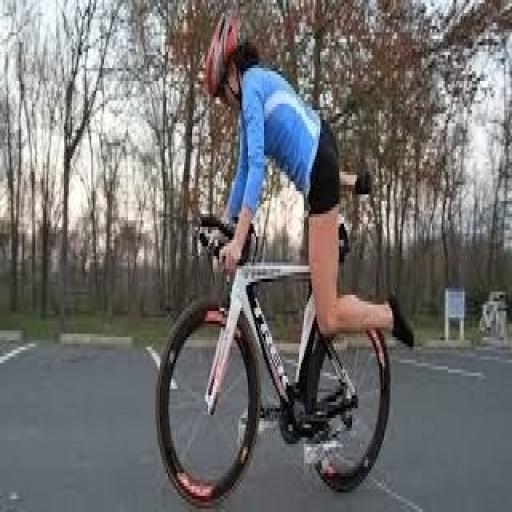cycling: (176, 14, 402, 506)
